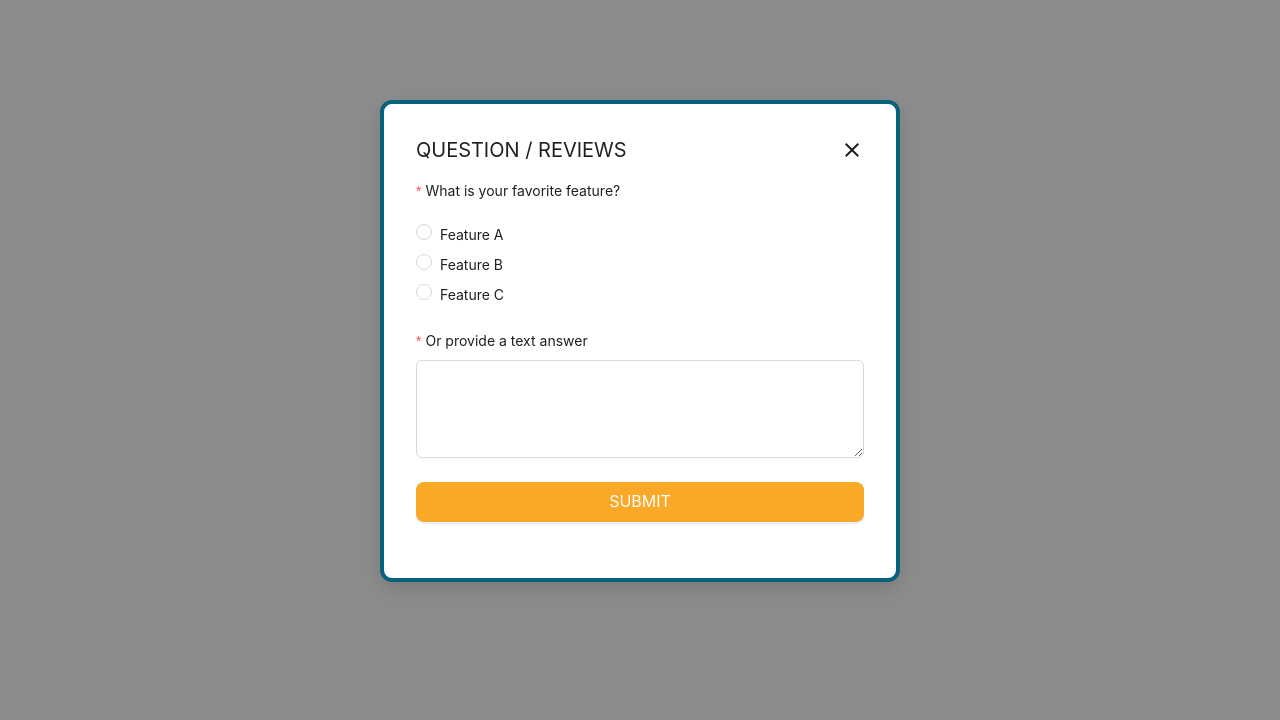
Scenario: QuestionReview › handles radio button selection
Click the radio button labelled "Feature A".
click(464, 225)  # box [416,210,512,240]
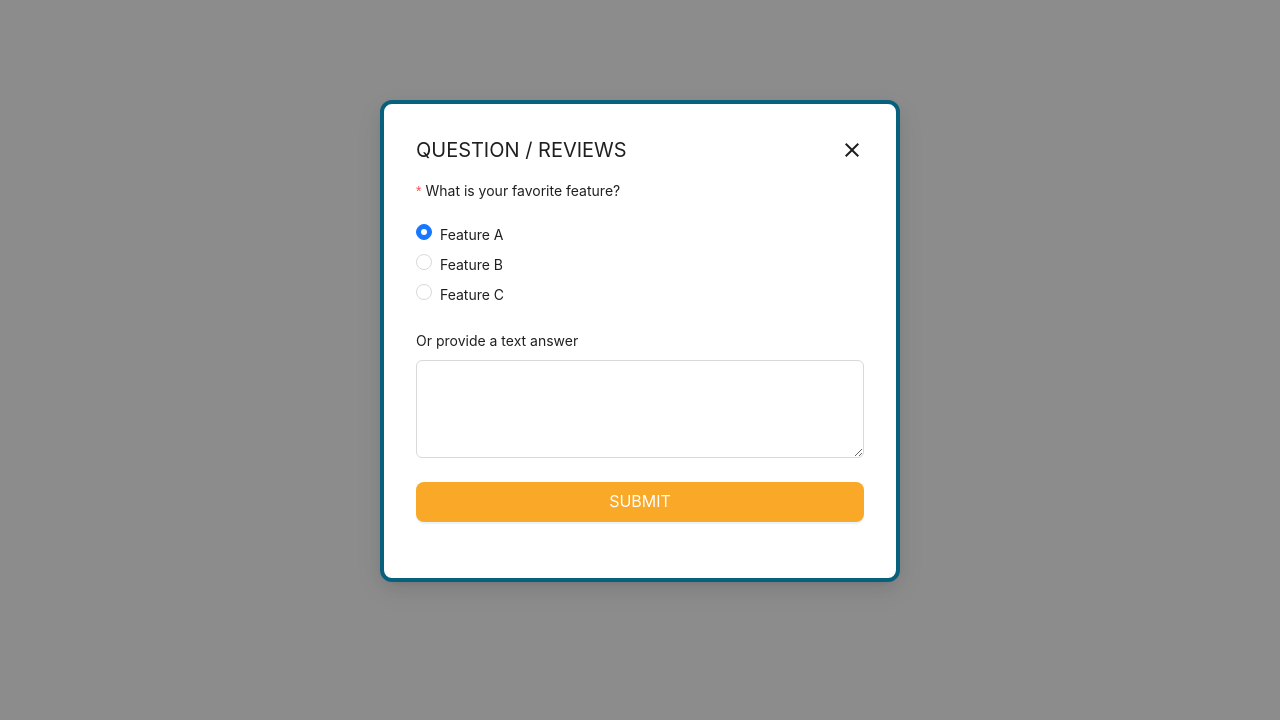
Check: the radio button labelled "Feature A" is checked, box [416,210,512,240]
